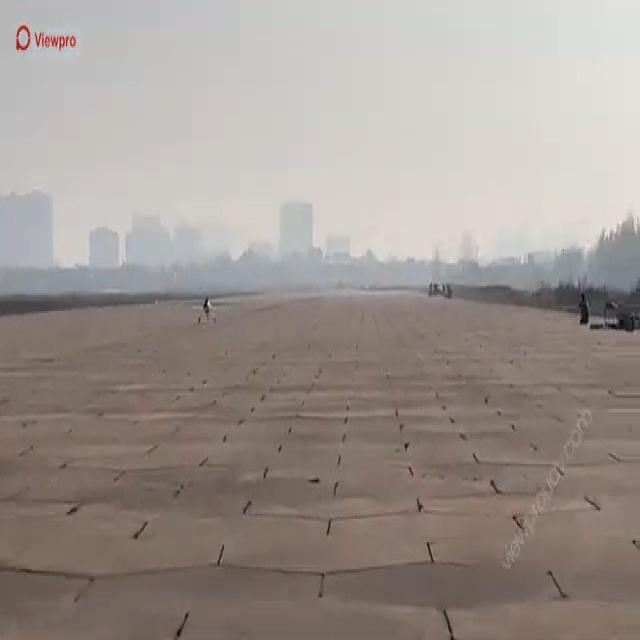drones: (160, 292, 252, 332)
